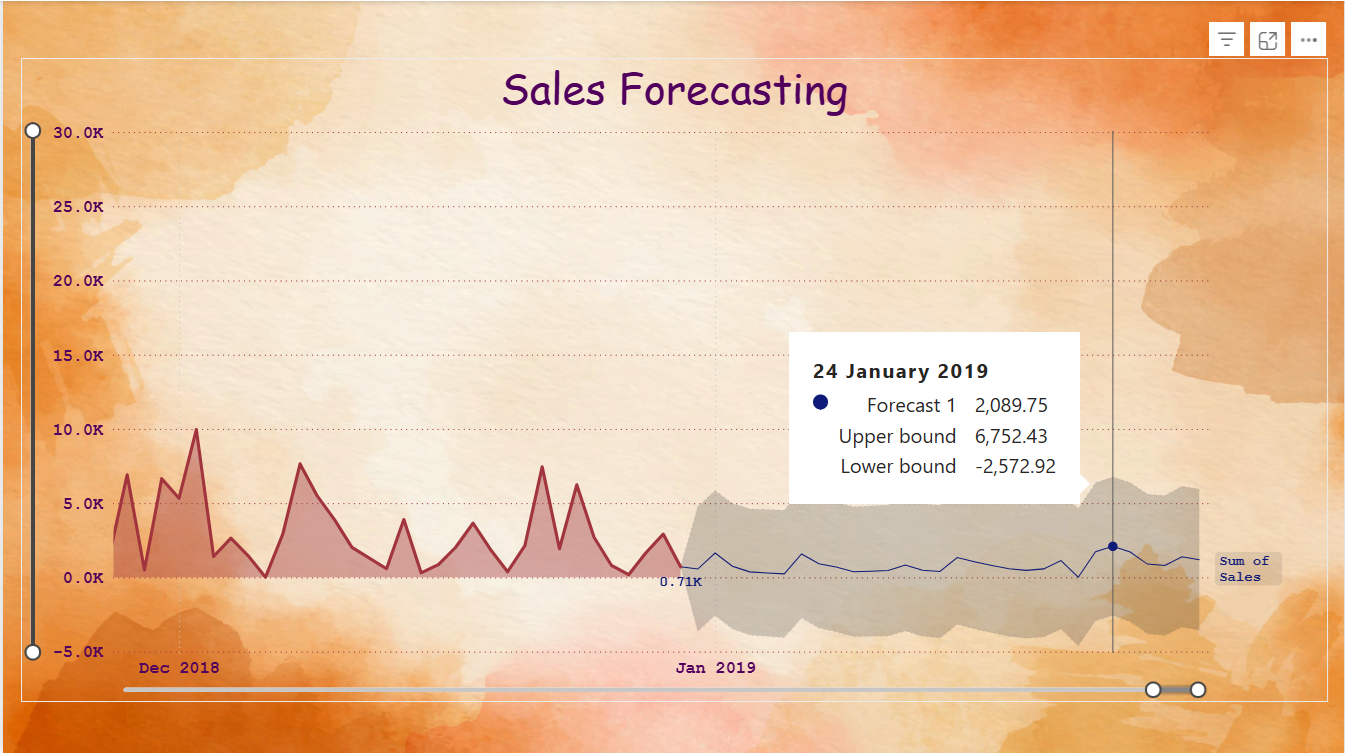

The page's visual inventory and layout, read from the dashboard file:
{"tool":"powerbi","page":{"name":"Duplicate of Page 1","canvas":[1280,720],"ordinal":1},"visuals":[{"type":"lineChart","title":"Sales Forecasting","fields":{"Y":["Sum(SuperStore_Sales_Dataset.Sales)"],"Category":["SuperStore_Sales_Dataset.Order Date"]},"box":[27.3,95.4,1225,466.4],"z":0}]}

Visuals, with their boxes in screenshot pixels (x1, y1, x2, y2), scaled from the page's 1280x720 canvas onto the 1345x753 screenshot:
"Sales Forecasting" lineChart: region(29, 100, 1316, 588)
